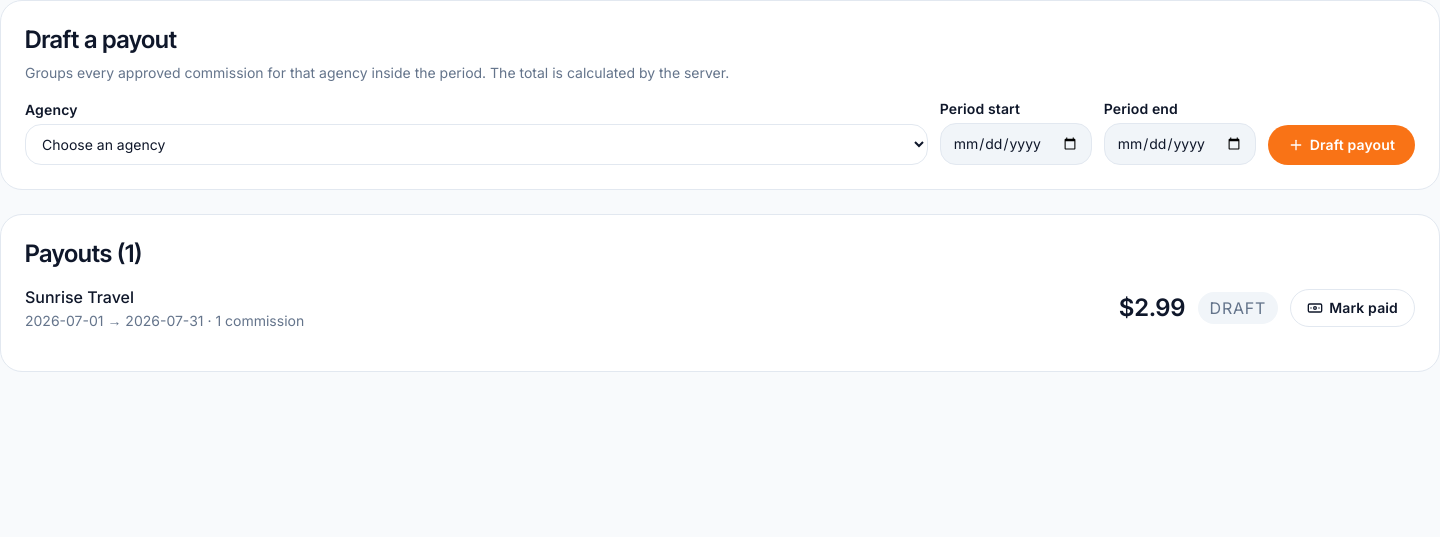
Test case: marking one paid › says plainly that it records rather than sends money
Click the 2nd button named "mark paid": (1353, 308) left=1290, top=289, right=1415, bottom=327
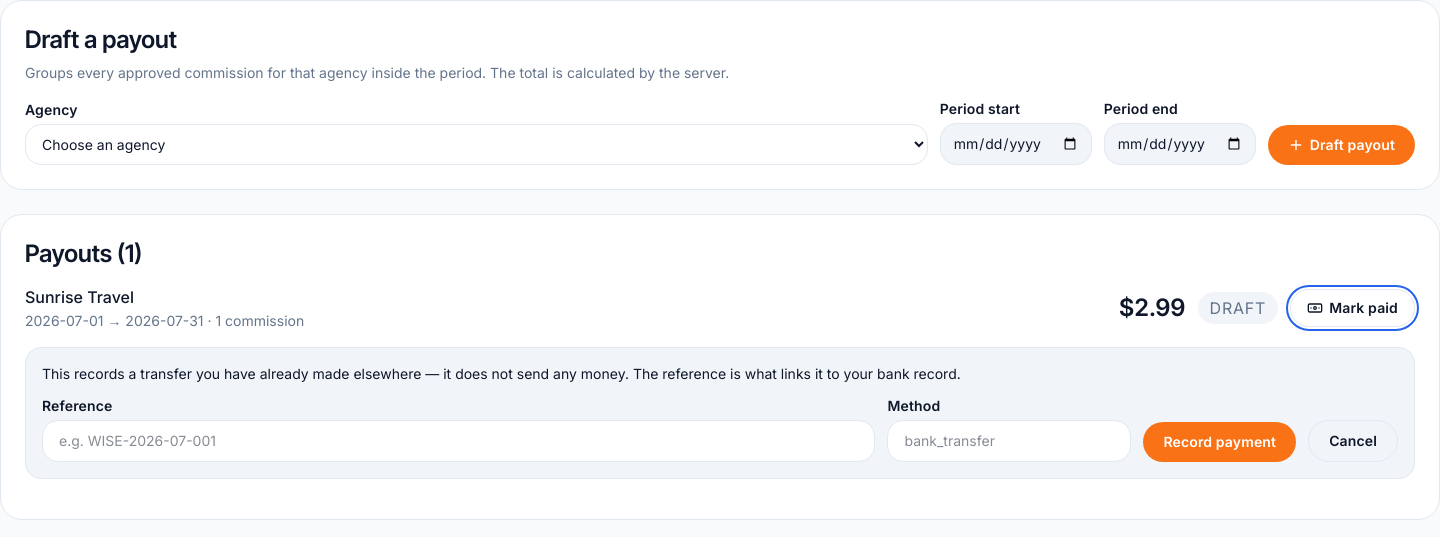
Result: the 9th text "already made elsewhere" is shown at left=42, top=365, right=961, bottom=382
